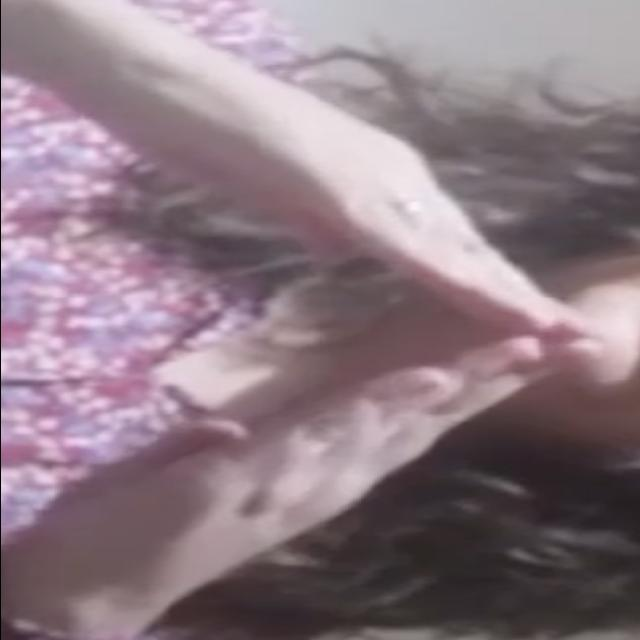casa: (28, 30, 610, 613)
